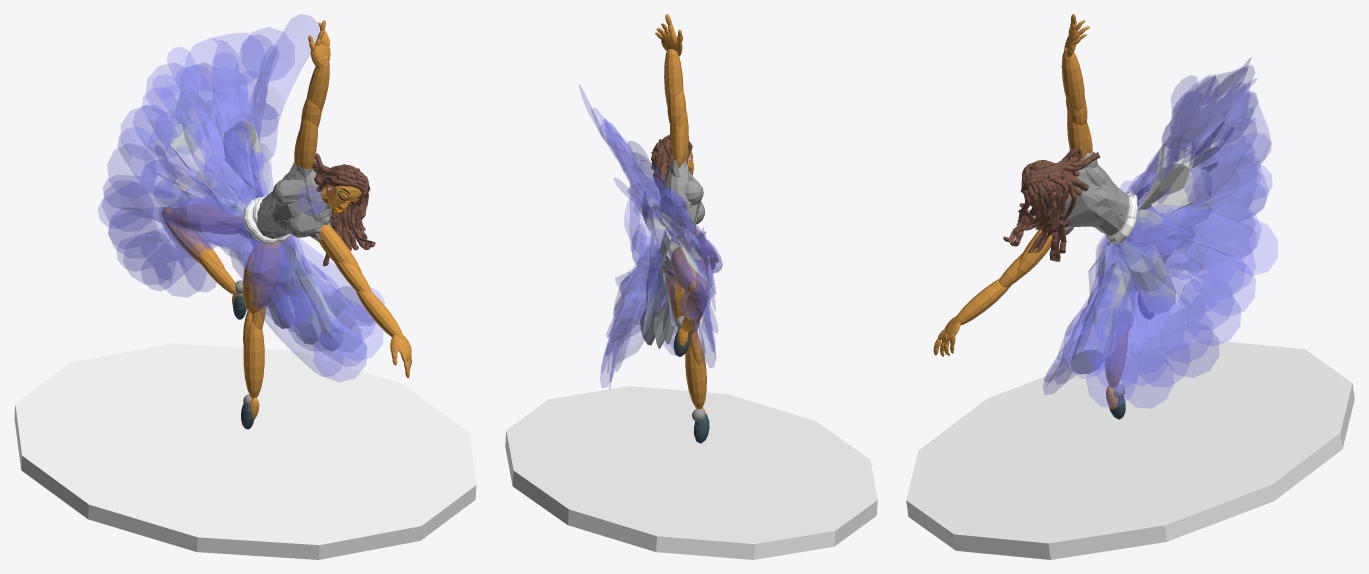
3 renders of one model, left to right at view 1: azimuth 30°, elevation 25°; view 2: azimuth 150°, elevation 25°; view 3: azimuth 270°, elevation 25°, orthographic. The views are drawn at different scales.
Visible parts, largest first — view 1: node_MeshObject-1021190144-PolyPaper21, node_MeshObject-449111040-PolyGlass24, node_MeshObject122968064-PolyPaper19, node_MeshObject1267126272-PolyPaper21, node_MeshObject1839205376-PolyPaper20; view 2: node_MeshObject-1021190144-PolyPaper21, node_MeshObject-449111040-PolyGlass24, node_MeshObject122968064-PolyPaper19, node_MeshObject1839205376-PolyPaper20; view 3: node_MeshObject-1021190144-PolyPaper21, node_MeshObject-449111040-PolyGlass24, node_MeshObject122968064-PolyPaper19, node_MeshObject1839205376-PolyPaper20, node_MeshObject1267126272-PolyPaper21.
Boxes of the visible parts, x1,y1,x2,y2 form: node_MeshObject-1021190144-PolyPaper21: (14, 22, 476, 559); node_MeshObject-449111040-PolyGlass24: (98, 14, 384, 382); node_MeshObject122968064-PolyPaper19: (143, 20, 411, 377); node_MeshObject1267126272-PolyPaper21: (253, 164, 368, 250); node_MeshObject1839205376-PolyPaper20: (312, 150, 375, 266); node_MeshObject-1021190144-PolyPaper21: (505, 23, 877, 559); node_MeshObject-449111040-PolyGlass24: (579, 84, 722, 389); node_MeshObject122968064-PolyPaper19: (635, 14, 718, 348); node_MeshObject1839205376-PolyPaper20: (651, 139, 673, 195); node_MeshObject-1021190144-PolyPaper21: (906, 20, 1354, 559); node_MeshObject-449111040-PolyGlass24: (1043, 57, 1277, 408); node_MeshObject122968064-PolyPaper19: (933, 14, 1234, 374); node_MeshObject1839205376-PolyPaper20: (1003, 147, 1099, 261); node_MeshObject1267126272-PolyPaper21: (1017, 160, 1137, 247).
Bounding box in the file's own units: 0.496 × 0.5972 × 0.4918.
